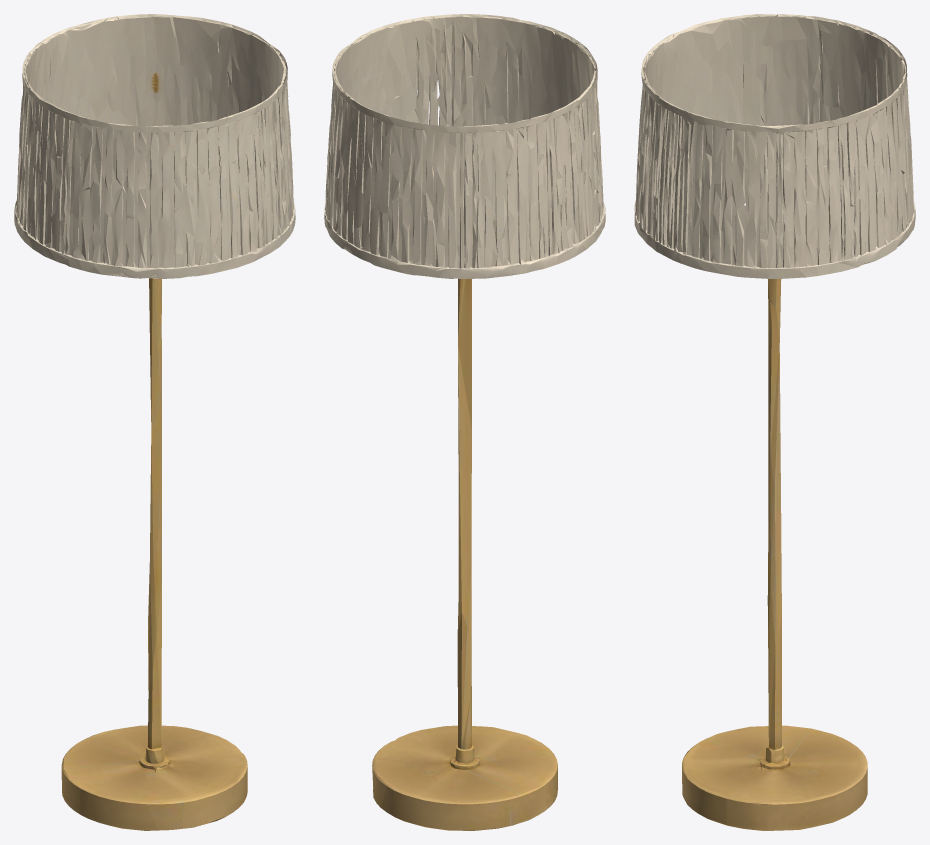
Rendered from w5floorlamp.glb.
The picture shows the model from 3 angles, left to right: view 1: azimuth 30°, elevation 25°; view 2: azimuth 150°, elevation 25°; view 3: azimuth 270°, elevation 25°; orthographic projection.
Visible parts, largest first — view 1: output_unwrapped; view 2: output_unwrapped; view 3: output_unwrapped.
Part boxes in pixels (left/top/right/bottom): output_unwrapped: left=14, top=14, right=295, bottom=830; output_unwrapped: left=324, top=14, right=605, bottom=830; output_unwrapped: left=634, top=14, right=915, bottom=830.
Bounding box in the file's own units: 0.5473 × 1.55 × 0.5467.
Materials: 1 (1 with a texture image).
